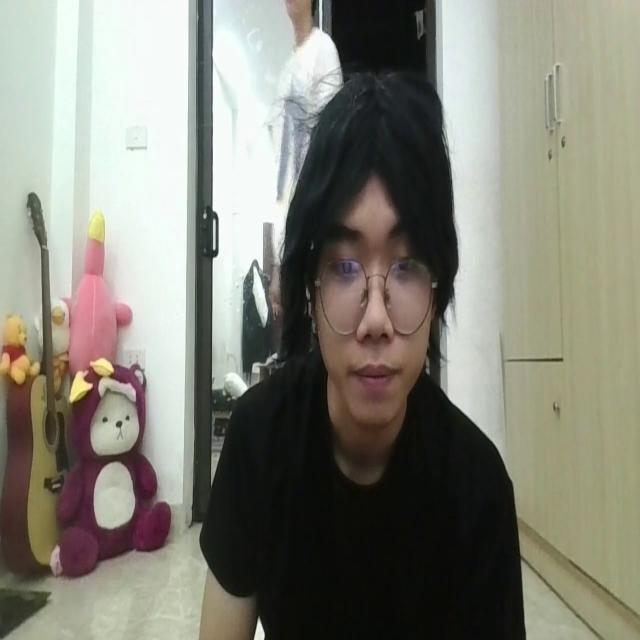student: (201, 57, 526, 640)
